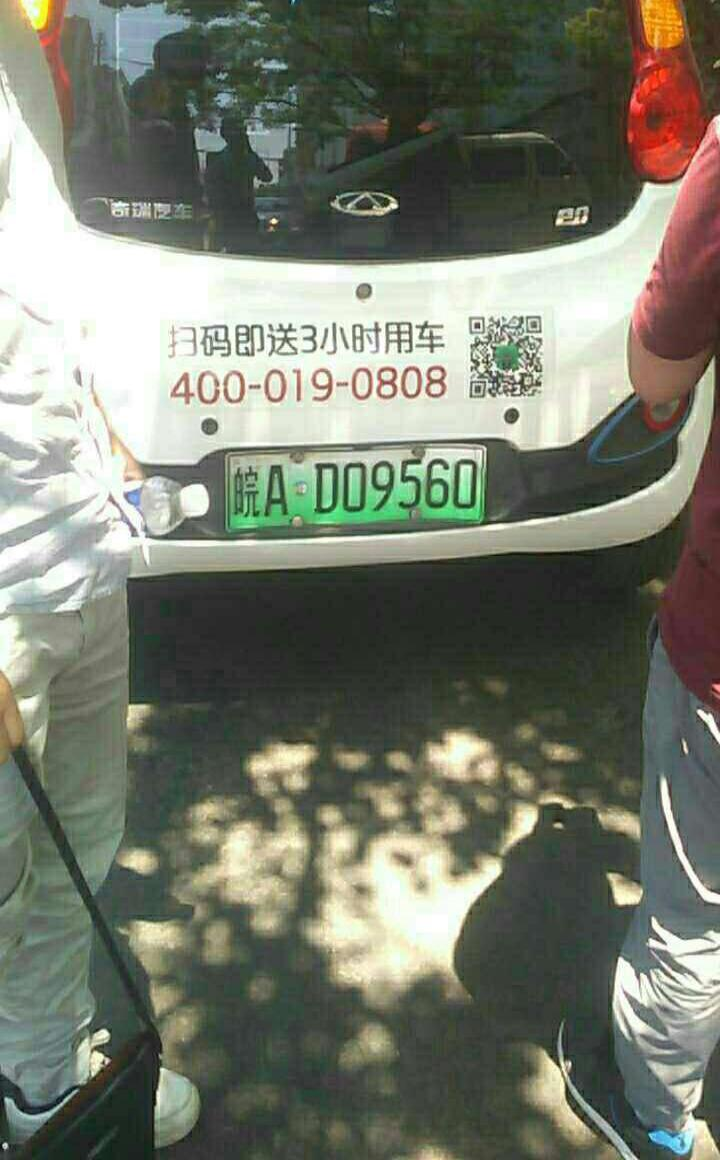car_id: (223, 449, 489, 526)
